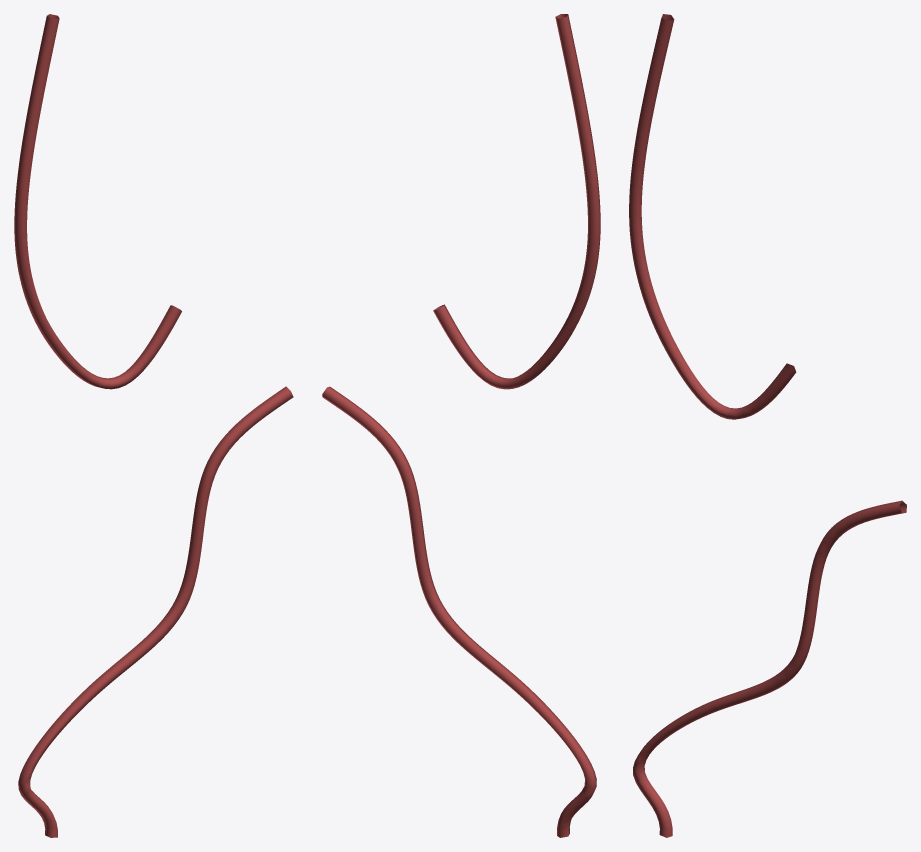
Rendered from snipFour.fbx.
3 renders of one model, left to right at view 1: azimuth 30°, elevation 25°; view 2: azimuth 150°, elevation 25°; view 3: azimuth 330°, elevation 25°, orthographic.
Parts seen in each view (by area): view 1: extrudedSurface24, extrudedSurface19; view 2: extrudedSurface24, extrudedSurface19; view 3: extrudedSurface19, extrudedSurface24.
Part boxes in pixels (x1,y1,x2,y2): extrudedSurface24: (18, 386, 293, 837); extrudedSurface19: (14, 14, 181, 389); extrudedSurface24: (322, 386, 596, 837); extrudedSurface19: (433, 14, 600, 389); extrudedSurface19: (629, 14, 796, 419); extrudedSurface24: (633, 500, 906, 837).
Size of the model in its own units: 20.83 by 59.17 by 0.8162.
